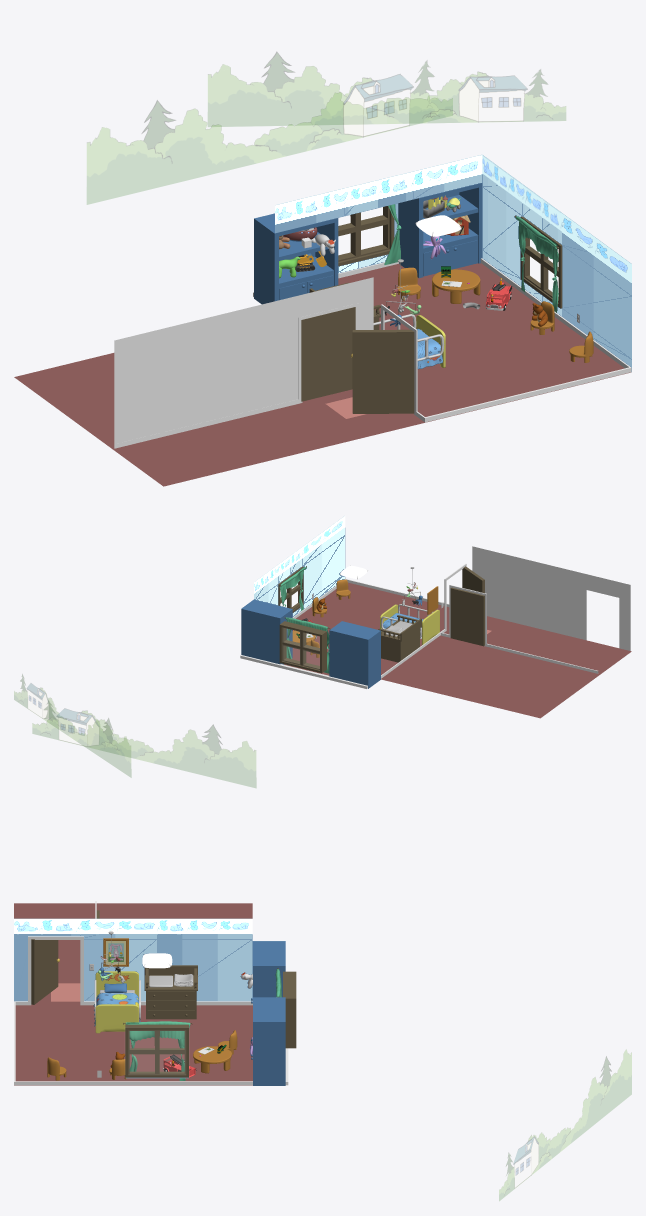
Rendered from stewies_bedroom.glb.
The picture shows the model from 3 angles, top to bottom: view 1: azimuth 30°, elevation 25°; view 2: azimuth 150°, elevation 25°; view 3: azimuth 270°, elevation 25°; orthographic projection. The views are drawn at different scales.
Visible parts, largest first — view 1: Cube_0, Cube.018_43, Plane.001_23, Cube.001_1, Plane.002_24, Cube.004_3, Cube.020_69, Cube.008_10, Cube.009_11, Cube.021_45, Cube.010_12, Cube.011_18 (+6 smaller); view 2: Cube_0, Cube.028_68, Plane.001_23, Cube.001_1, Cube.008_10, Plane.002_24, Cube.009_11, Cube.021_45, Cube.010_12, Cube.011_18, Cube.034_40, crib_39 (+5 smaller); view 3: Cube_0, Cube.005_4, Plane.002_24, Cube.009_11, Cube.010_12, crib_39, Cube.034_40, Cube.015_22, Cube.008_10, Cube.020_69, Cube.011_18, Cube.023_55 (+2 smaller).
Boxes of the visible parts, x1,y1,x2,y2 form: Cube_0: (14, 263, 630, 486); Cube.018_43: (114, 277, 373, 448); Plane.001_23: (87, 60, 452, 204); Cube.001_1: (482, 155, 631, 371); Plane.002_24: (208, 51, 565, 126); Cube.004_3: (255, 154, 482, 289); Cube.020_69: (352, 329, 414, 413); Cube.008_10: (254, 213, 338, 304); Cube.009_11: (398, 183, 482, 278); Cube.021_45: (301, 307, 355, 401); Cube.010_12: (253, 258, 631, 422); Cube.011_18: (338, 206, 394, 266); Cube_0: (292, 582, 631, 718); Cube.028_68: (472, 546, 630, 650); Plane.001_23: (32, 700, 256, 787); Cube.001_1: (254, 516, 345, 616); Cube.008_10: (329, 621, 380, 688); Plane.002_24: (14, 674, 131, 777); Cube.009_11: (241, 599, 292, 664); Cube.021_45: (450, 587, 484, 646); Cube.010_12: (240, 563, 466, 688); Cube.011_18: (279, 621, 326, 673); Cube.034_40: (378, 615, 421, 662); crib_39: (380, 604, 439, 644); Cube_0: (14, 903, 252, 1085); Cube.005_4: (14, 918, 252, 1001); Plane.002_24: (499, 1049, 631, 1200); Cube.009_11: (251, 997, 285, 1085); Cube.010_12: (14, 936, 288, 1085); crib_39: (93, 971, 140, 1033); Cube.034_40: (144, 965, 197, 1019); Cube.015_22: (125, 1024, 188, 1077); Cube.008_10: (251, 941, 285, 1003); Cube.020_69: (31, 939, 59, 1004); Cube.011_18: (283, 971, 296, 1048); Cube.023_55: (123, 1021, 192, 1080).
Bounding box in the file's own units: 17.5 × 3.51 × 16.6.
Materials: 60 (11 with a texture image).
